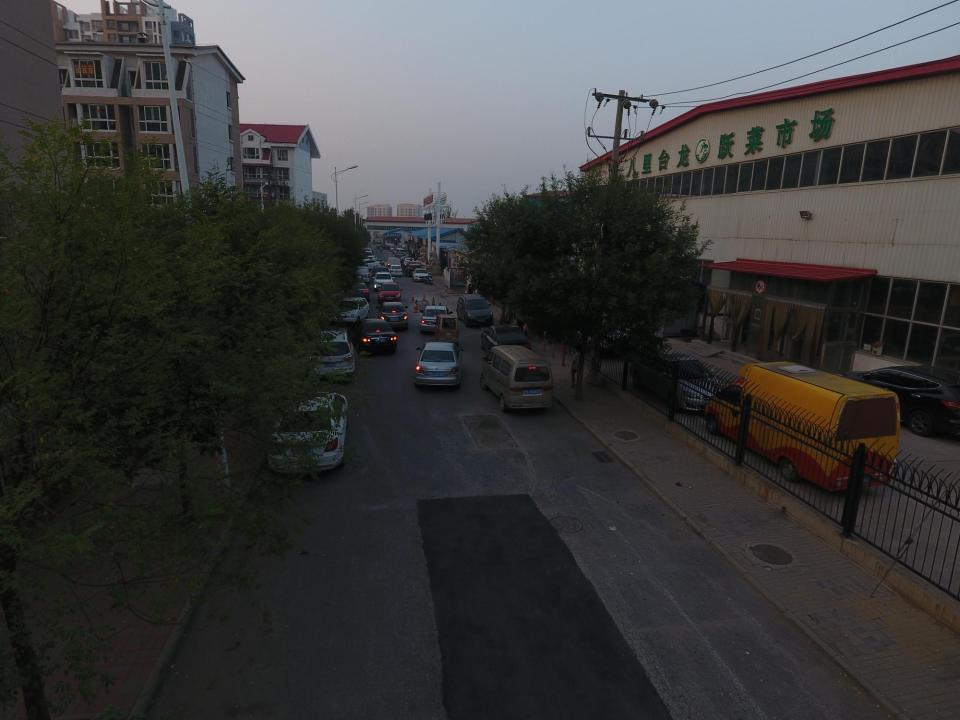car: (841, 366, 960, 439), (266, 390, 347, 477), (631, 350, 730, 413), (309, 332, 357, 379), (414, 340, 460, 388), (352, 318, 398, 354), (478, 324, 532, 354), (457, 295, 493, 324), (378, 300, 410, 330), (335, 298, 369, 326), (436, 312, 458, 342), (421, 307, 448, 331), (378, 282, 397, 304), (373, 272, 395, 290), (350, 281, 368, 297), (413, 270, 433, 283)
van: (702, 362, 901, 494), (479, 345, 554, 411)
